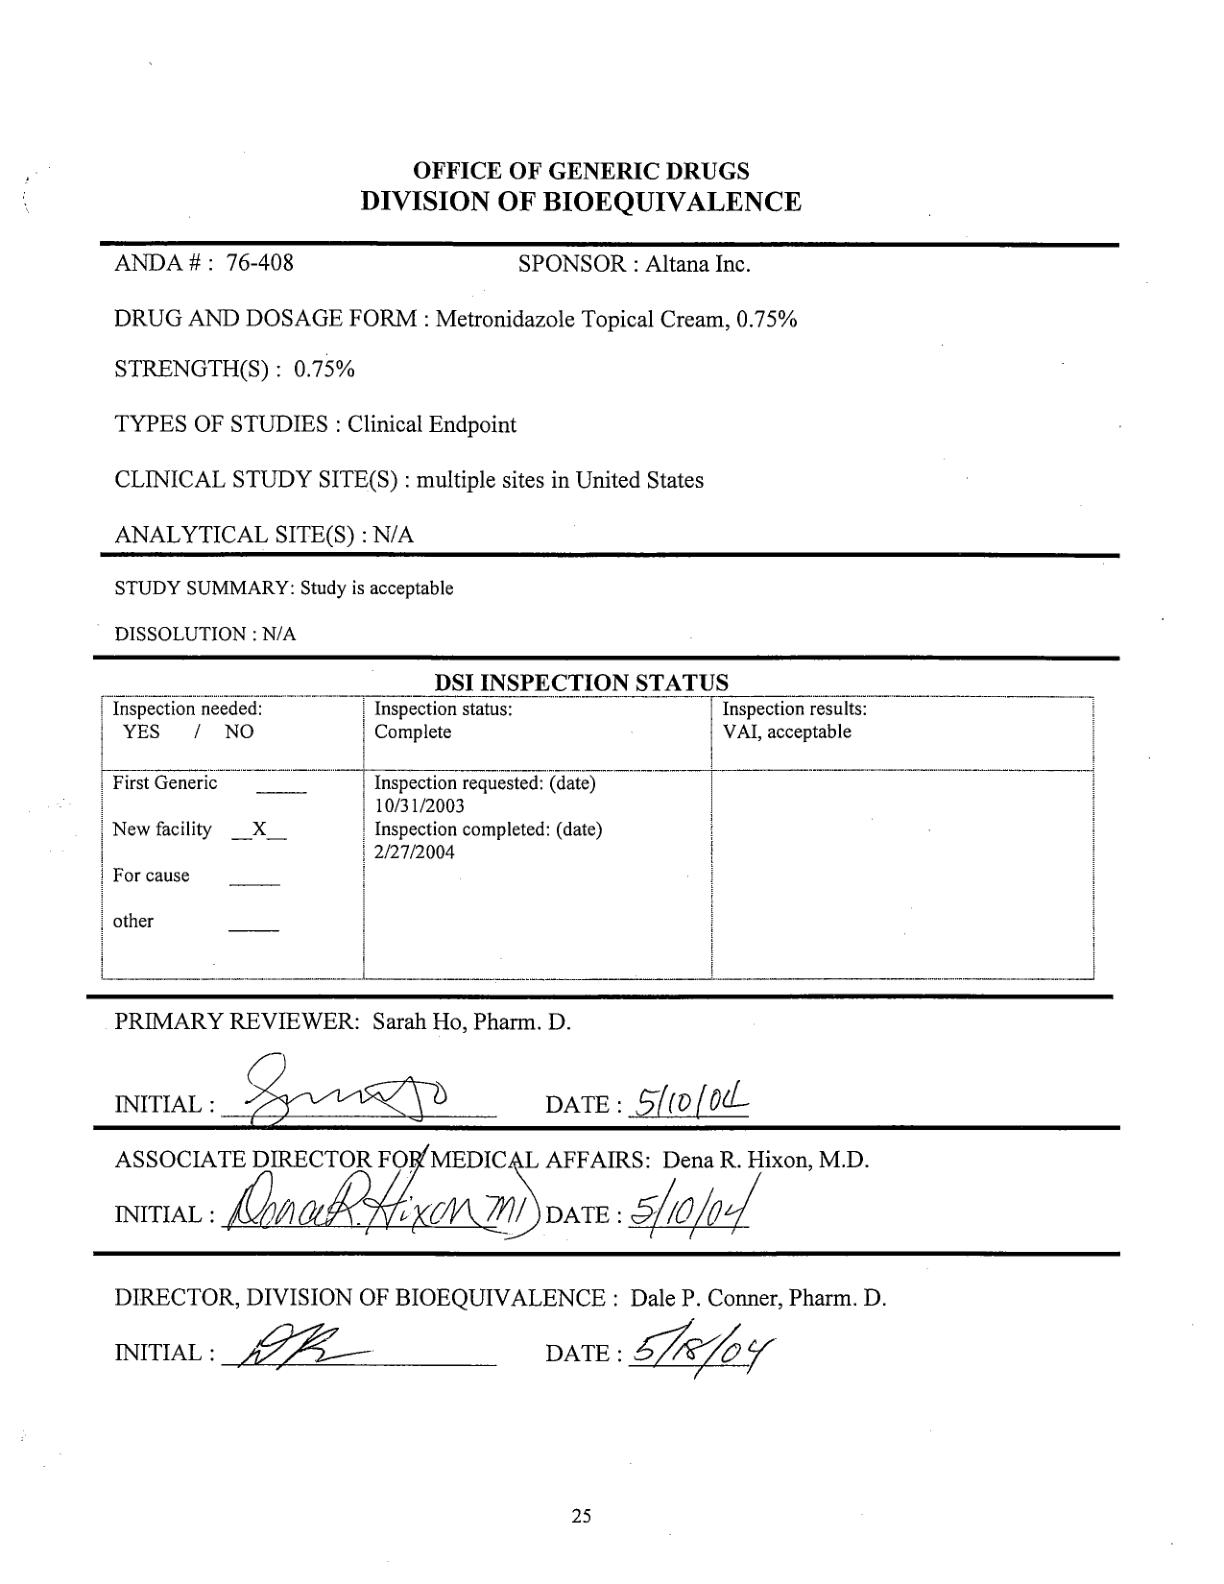partial_lined: (100, 693, 1097, 982)
